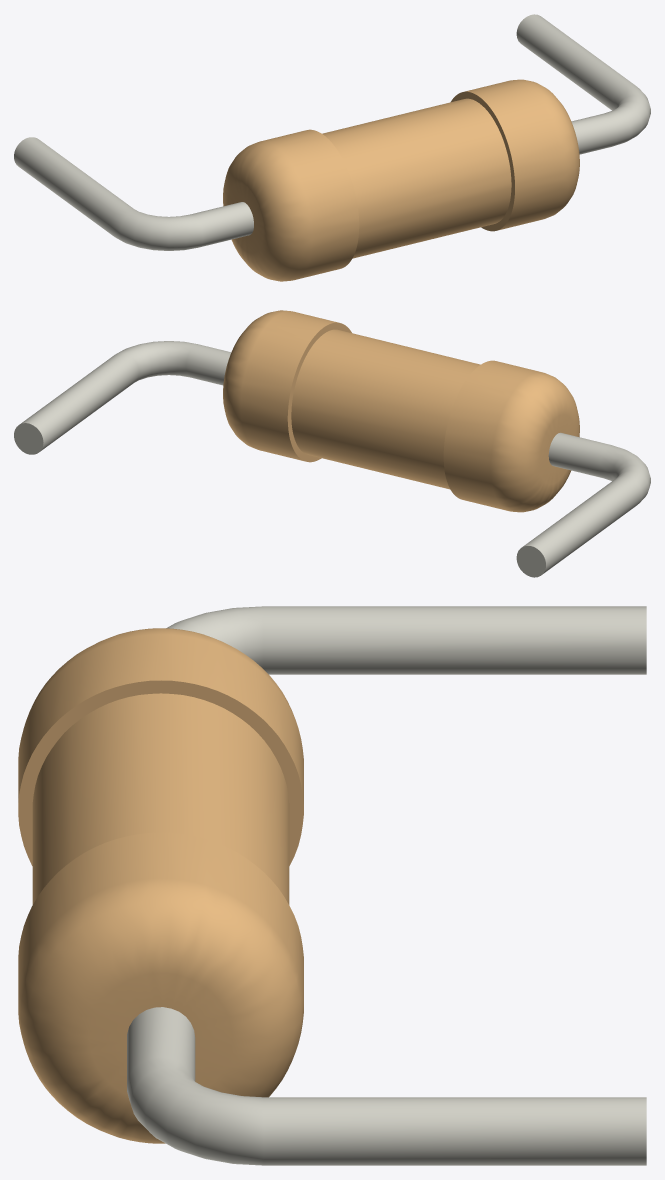
The model's file is r-axial-din0207-l6.3-d2.5-p10.16-h.glb.
3 views of the same model, one above another, from view 1: azimuth 30°, elevation 25°; view 2: azimuth 150°, elevation 25°; view 3: azimuth 270°, elevation 25° (orthographic). The views are drawn at different scales.
Visible parts, largest first — view 1: RES-THT-01, PIN-01; view 2: RES-THT-01, PIN-01; view 3: RES-THT-01, PIN-01.
Boxes of the visible parts, x1,y1,x2,y2 form: RES-THT-01: (223, 79, 579, 281); PIN-01: (14, 14, 650, 250); RES-THT-01: (223, 310, 579, 512); PIN-01: (14, 341, 650, 577); RES-THT-01: (18, 628, 303, 1143); PIN-01: (127, 606, 646, 1165).
Bounding box in the file's own units: 10.75 × 2.5 × 5.5.
